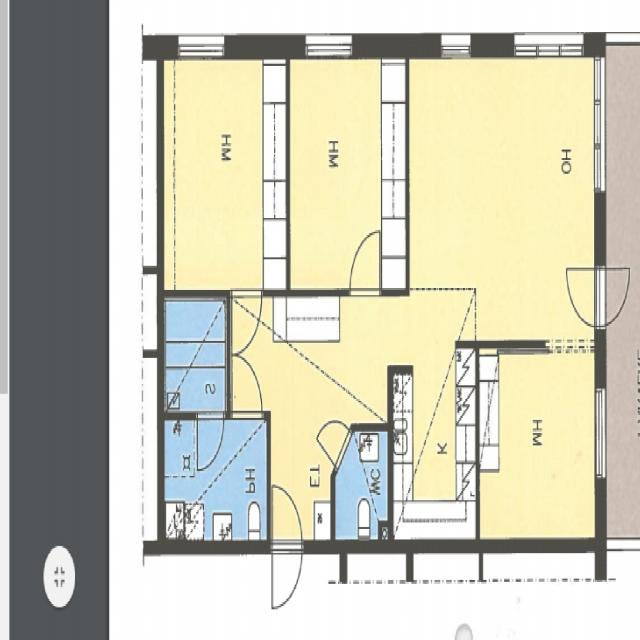door: (316, 403, 353, 473), (565, 268, 606, 328), (595, 268, 636, 328), (272, 540, 302, 612), (272, 482, 302, 553), (232, 354, 262, 420), (350, 232, 380, 298), (232, 291, 261, 356), (198, 413, 224, 471)
